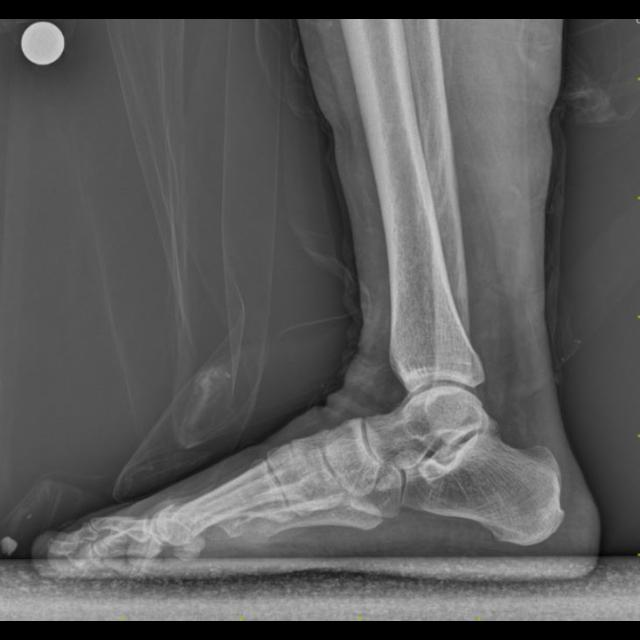a: (404, 419, 564, 545)
b: (326, 420, 377, 499)
c: (156, 463, 297, 561)
